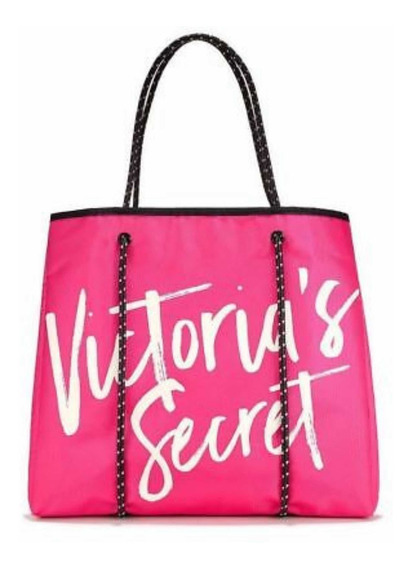cartera: (28, 32, 381, 518)
